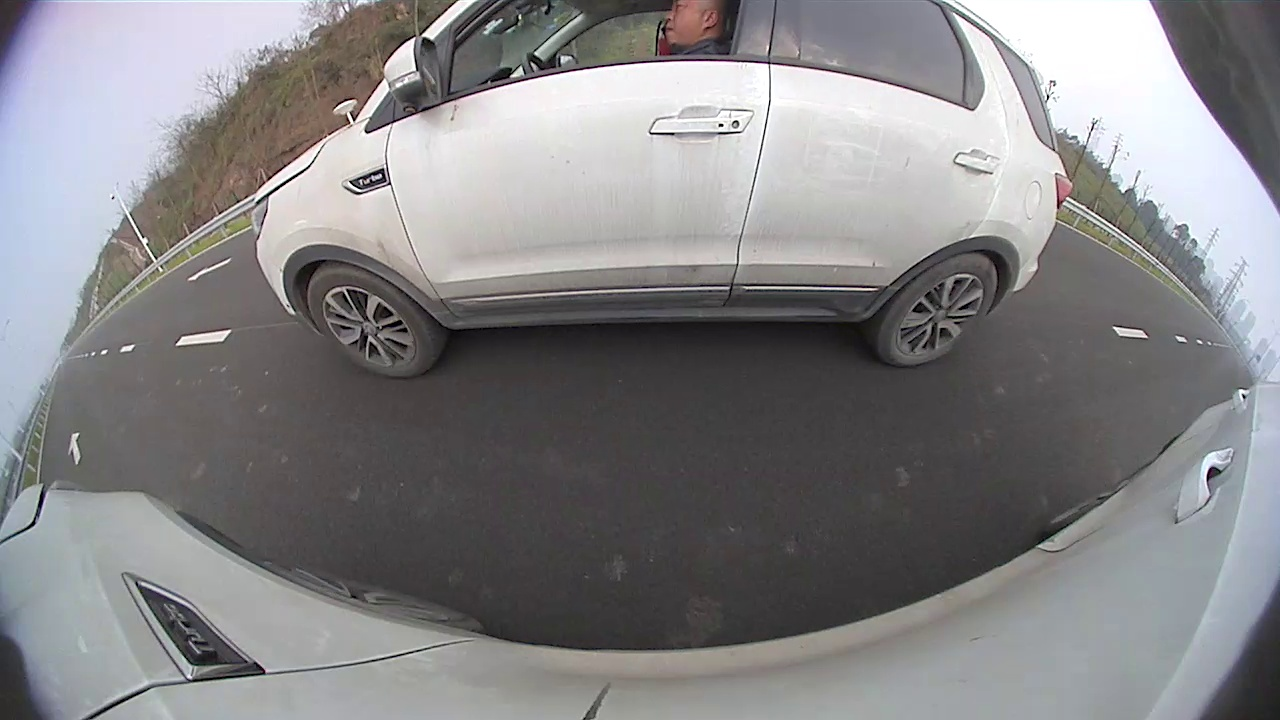car: (251, 1, 1073, 379)
front: (311, 272, 436, 379)
rear: (877, 254, 995, 366)
